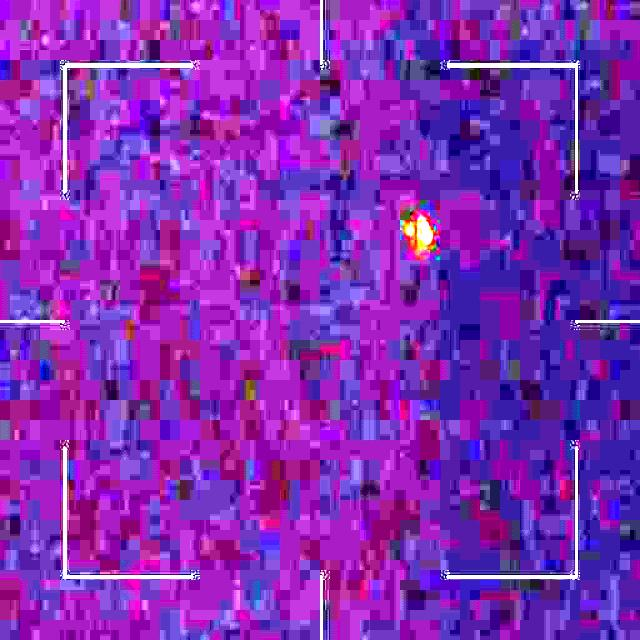bird: (406, 215, 435, 258)
